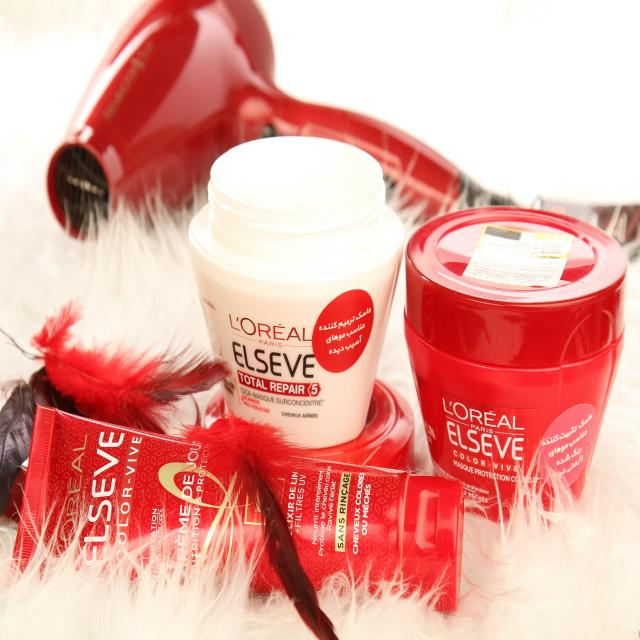dryer: (46, 0, 528, 244)
